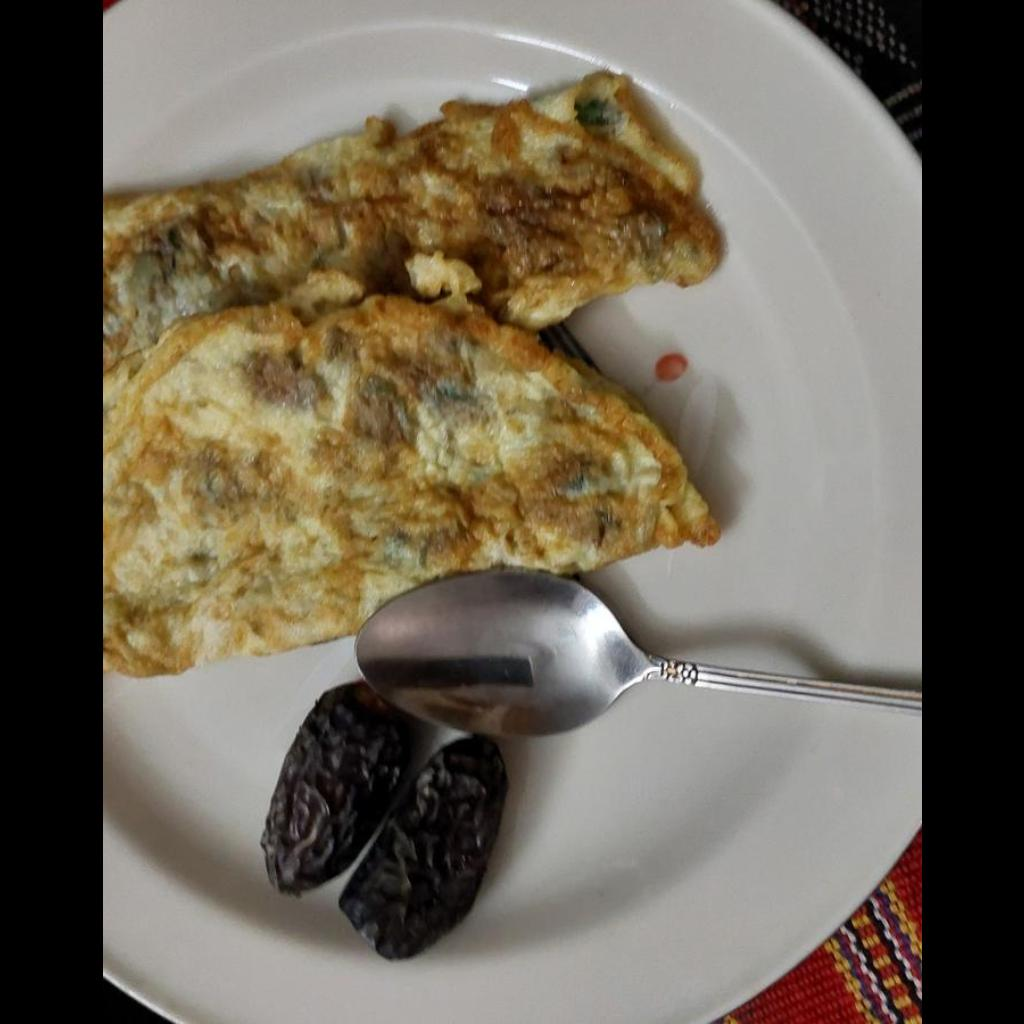dates: (264, 679, 507, 957)
egg-poached: (106, 76, 739, 677)
